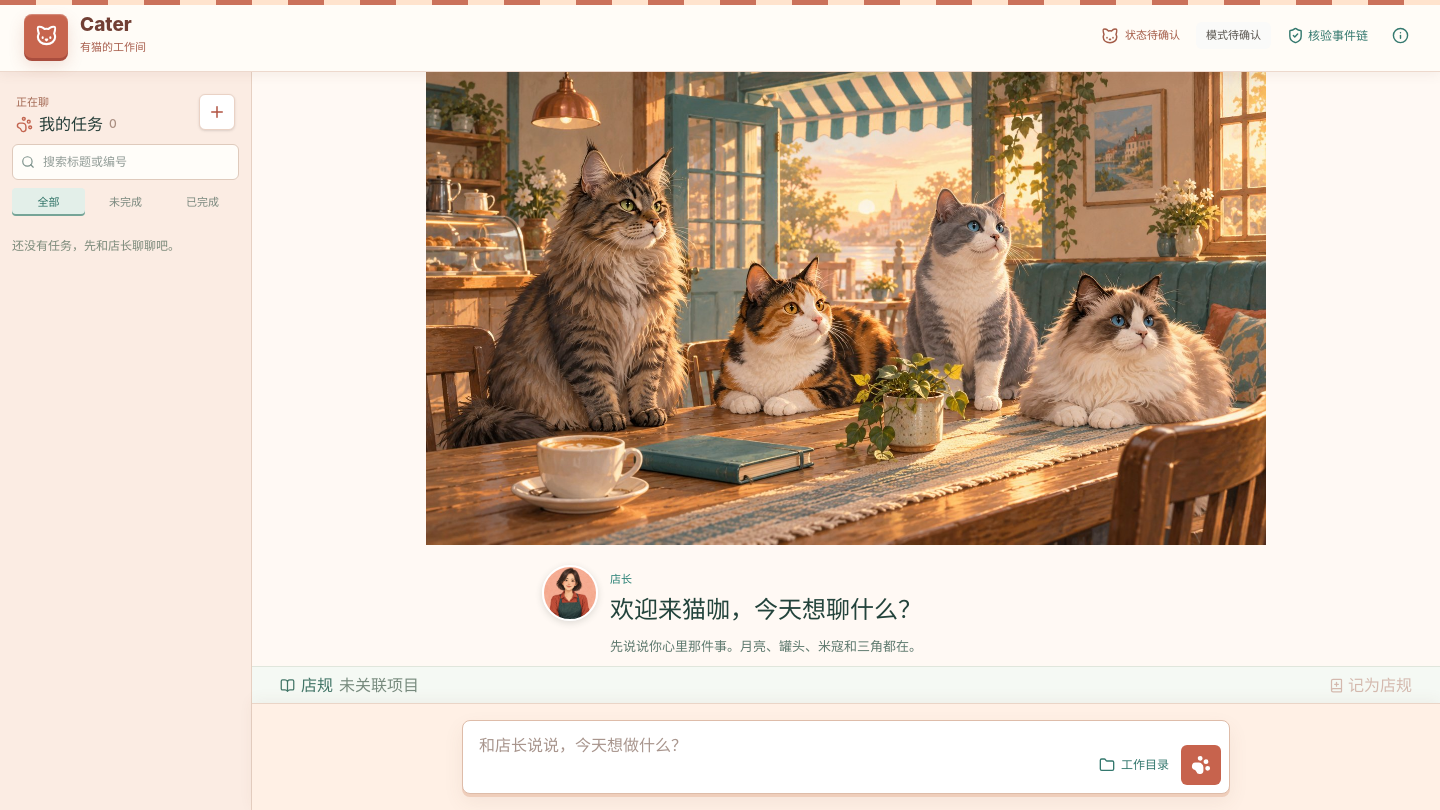
Scenario: 初始摘要到达前新建结果已选中，旧列表不能覆盖本窗口新任务
Type "新任务要求" into the text box named "发起任务对话" at {"x": 777, "y": 757}, box [471,729,1083,785]
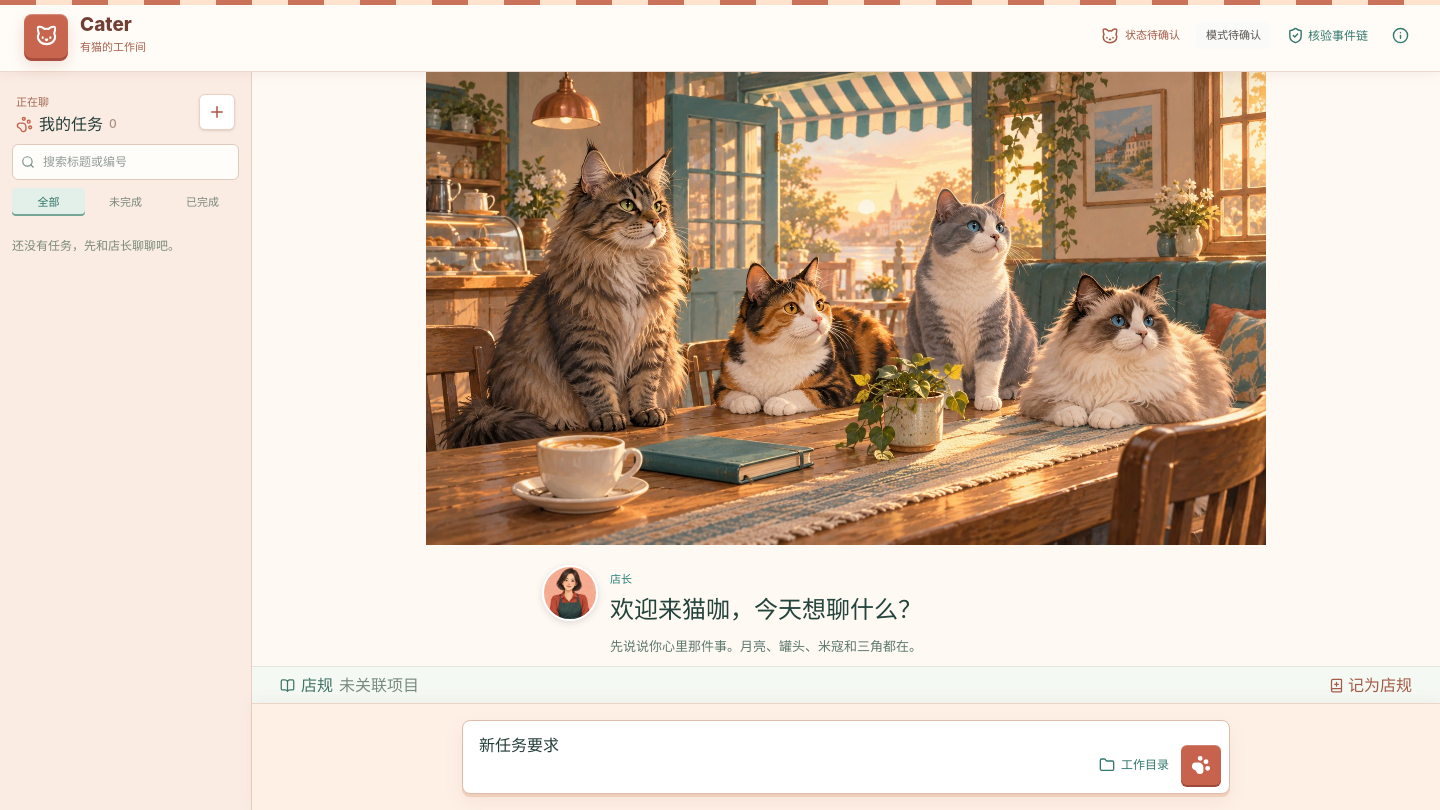
Click the button named "发送新任务" at {"x": 1201, "y": 765}, box [1181,745,1221,785]
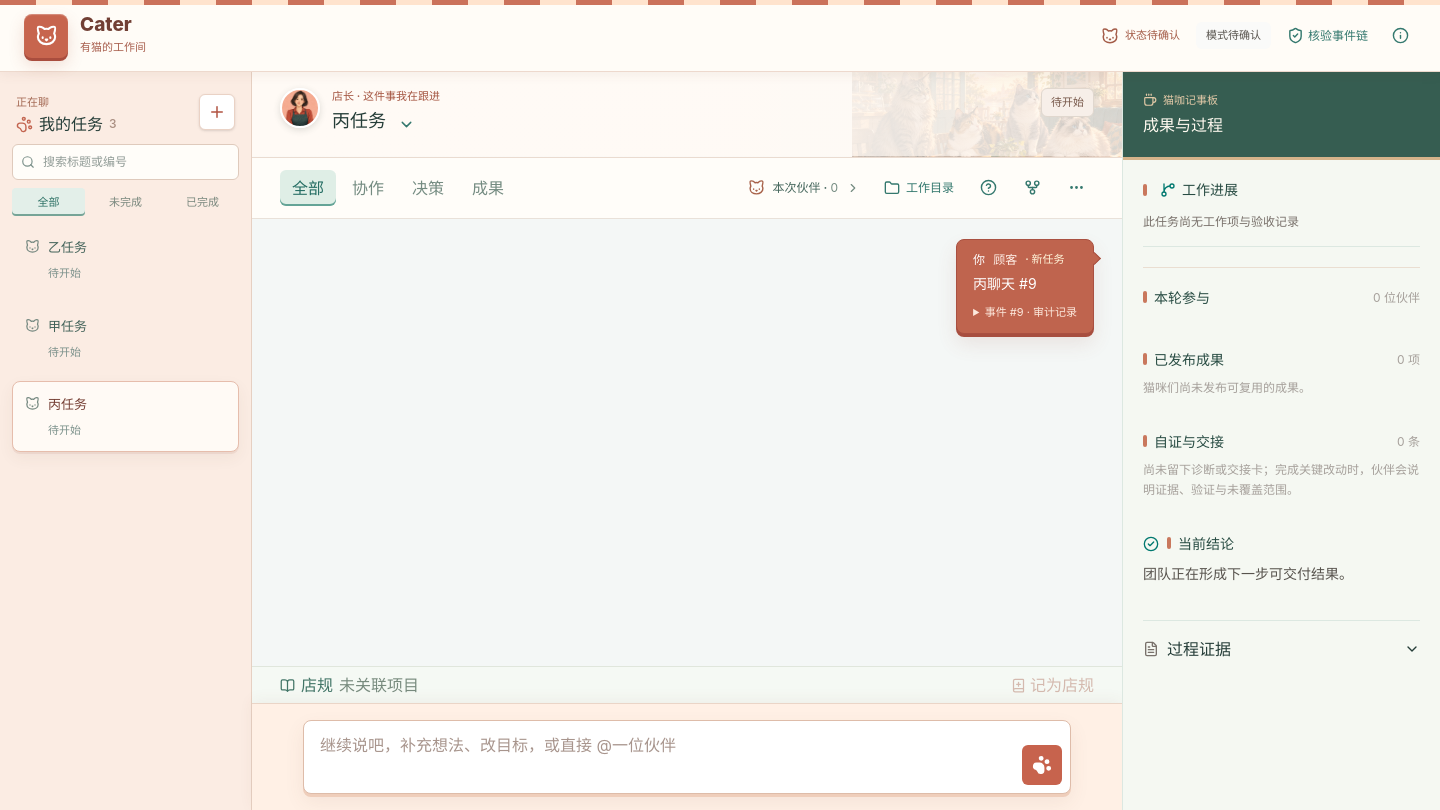
Result: the text "丙聊天 #9" is shown at [973,274,1037,292]
